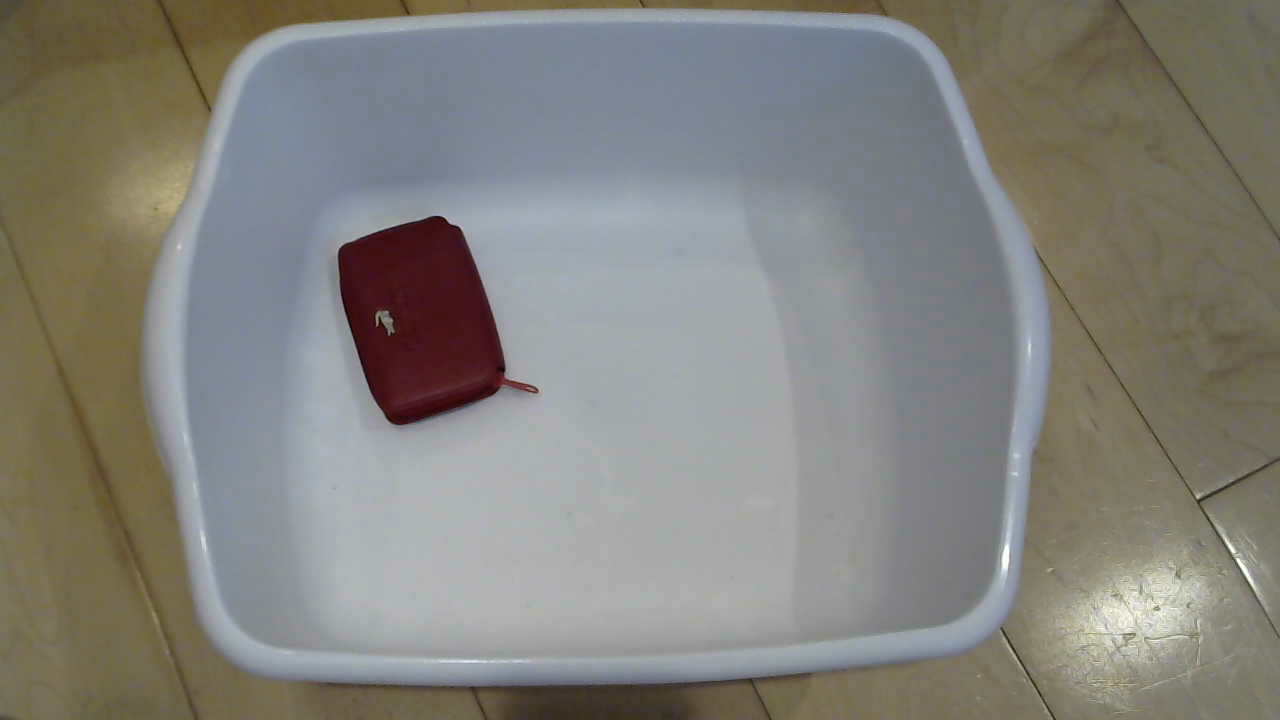wallet: (296, 207, 532, 447)
